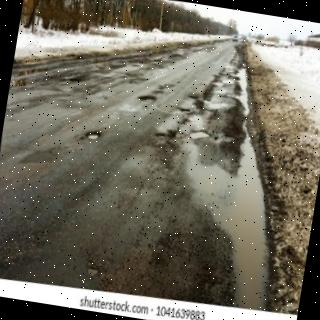pothole: (186, 132, 273, 312), (240, 68, 249, 116), (190, 132, 210, 140), (86, 131, 101, 140), (137, 96, 156, 102)
